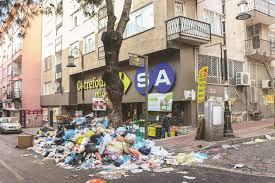Garbage: (38, 123, 171, 172), (61, 118, 109, 174), (163, 150, 206, 168)
